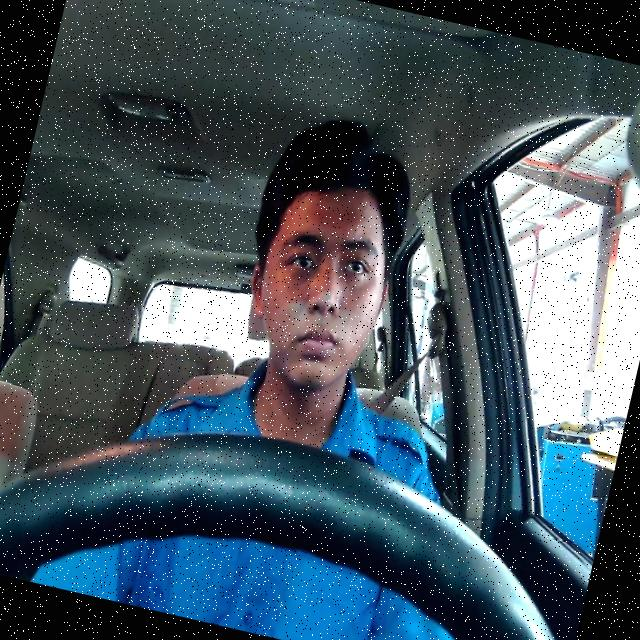focused: (230, 166, 409, 400)
